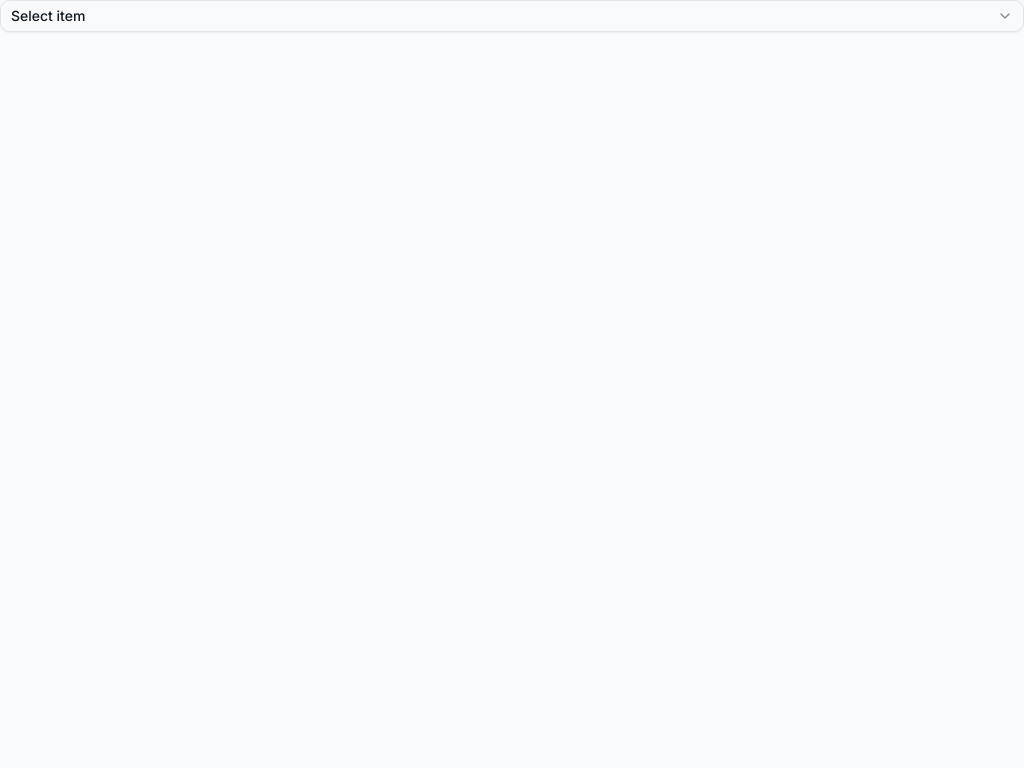
Test: SearchableSelect Component › opens dropdown when trigger is clicked
The image size is (1024, 768).
Click the dropdown.
click(48, 16)  # box [0, 0, 1023, 32]
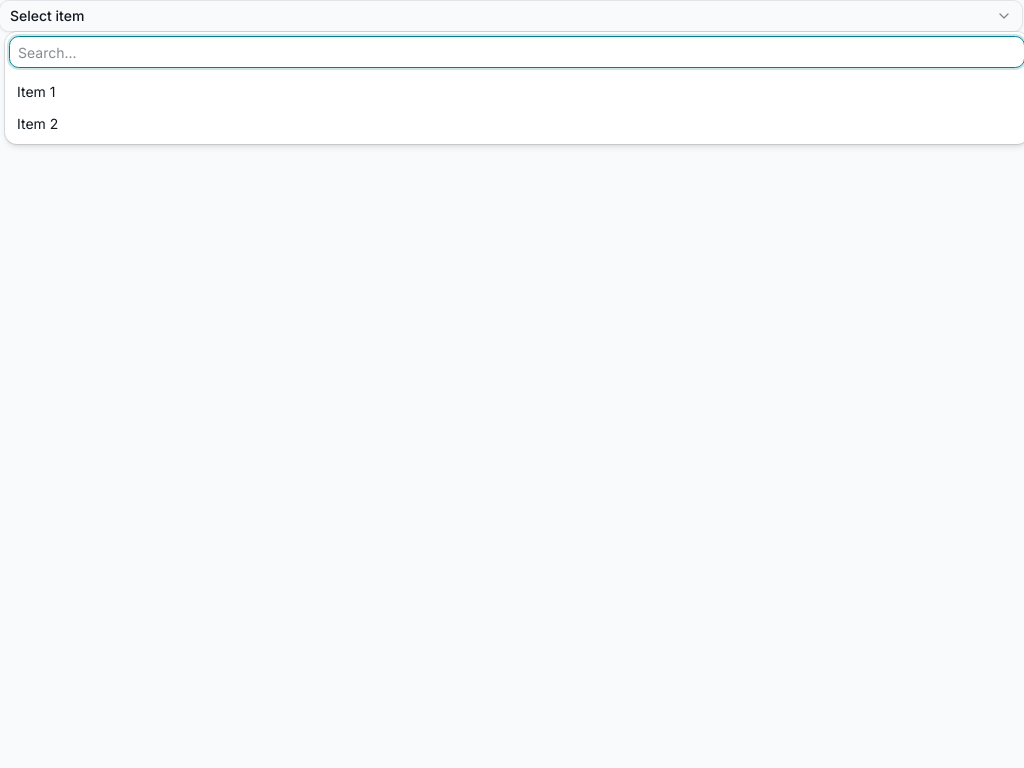
Expected: the option "Item 1" is shown, [17, 83, 56, 100]
Expected: the option "Item 2" is shown, [17, 115, 58, 132]
